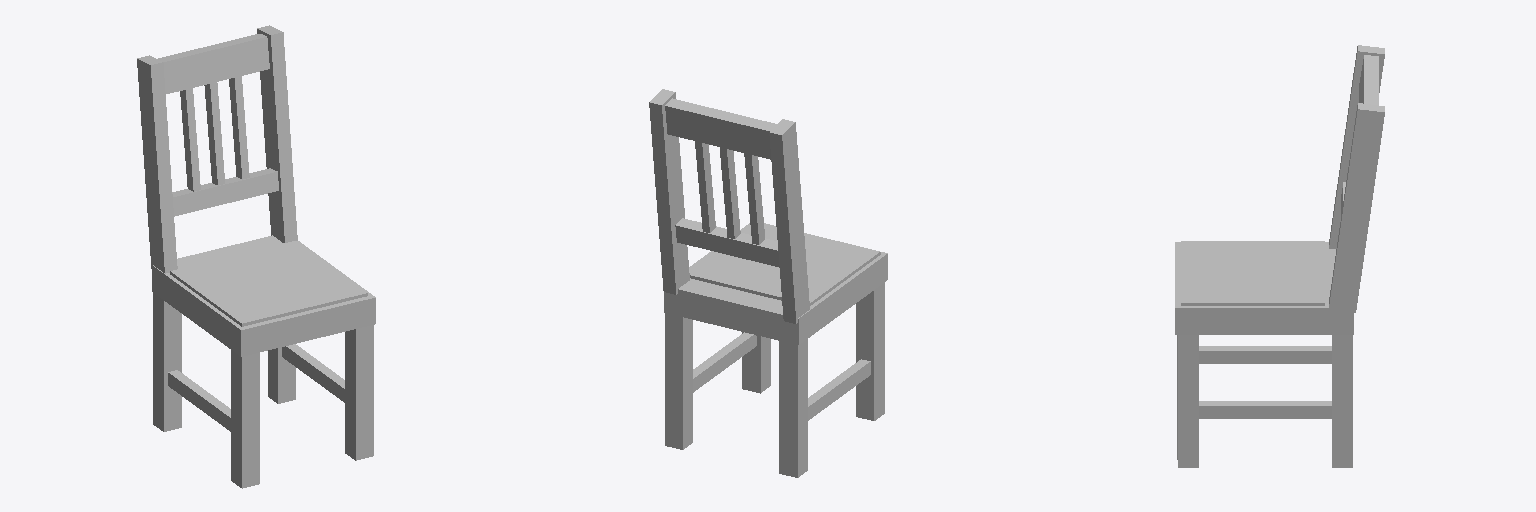
Rendered from sedia_sala.obj.
3 renders of one model, left to right at view 1: azimuth 30°, elevation 25°; view 2: azimuth 150°, elevation 25°; view 3: azimuth 270°, elevation 25°, orthographic.
Parts seen in each view (by area): view 1: dessus, assise, Cube_3_1, Cube_3, Cube_3_3, Cube_6_3, Cube_6_1, Cube_6_2, Cube_3_2, Cube_6_4, Cube_6_5, Cube_3_4 (+3 smaller); view 2: assise, dessus, Cube_3_1, Cube_3, Cube_3_3, Cube_6_2, Cube_6, Cube_6_3, Cube_3_2, Cube_6_4, Cube_6_5, Cube_6_1 (+3 smaller); view 3: dessus, assise, Cube_3, Cube_6_1, Cube_6, Cube_6_4, Cube_6_5, Cube_3_1, Cube_3_3.
Boxes of the visible parts, <box> form: dessus: <box>170,241,367,326</box>; assise: <box>152,235,375,356</box>; Cube_3_1: <box>137,55,177,273</box>; Cube_3: <box>257,25,297,242</box>; Cube_3_3: <box>158,34,269,93</box>; Cube_6_3: <box>231,350,259,488</box>; Cube_6_1: <box>345,325,373,460</box>; Cube_6_2: <box>153,293,181,431</box>; Cube_3_2: <box>172,168,278,216</box>; Cube_6_4: <box>168,370,230,431</box>; Cube_6_5: <box>282,344,344,402</box>; Cube_3_4: <box>180,88,200,191</box>; assise: <box>664,223,887,344</box>; dessus: <box>689,223,880,305</box>; Cube_3_1: <box>769,119,809,323</box>; Cube_3: <box>649,89,689,294</box>; Cube_3_3: <box>665,98,776,159</box>; Cube_6_2: <box>779,339,807,477</box>; Cube_6: <box>665,313,692,449</box>; Cube_6_3: <box>856,283,884,420</box>; Cube_3_2: <box>675,218,779,267</box>; Cube_6_4: <box>808,359,870,420</box>; Cube_6_5: <box>693,332,756,392</box>; Cube_6_1: <box>742,332,770,393</box>; dessus: <box>1181,241,1324,305</box>; assise: <box>1175,242,1353,334</box>; Cube_3: <box>1329,103,1384,312</box>; Cube_6_1: <box>1177,335,1198,467</box>; Cube_6: <box>1332,335,1352,467</box>; Cube_6_4: <box>1199,346,1331,363</box>; Cube_6_5: <box>1199,401,1331,418</box>; Cube_3_1: <box>1329,45,1384,248</box>; Cube_3_3: <box>1359,55,1378,104</box>.
Size of the model in its own units: 1.11 by 2.82 by 1.5.